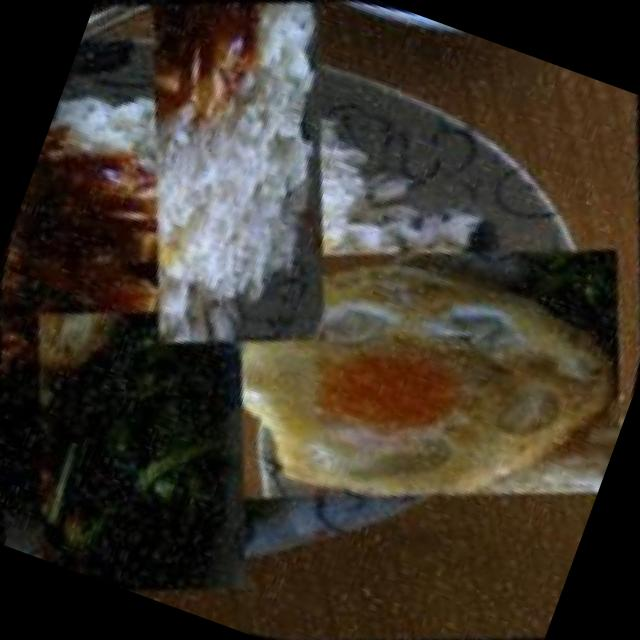fried_eggs: (124, 107, 640, 622)
rice: (19, 0, 459, 392)
water_spinach: (0, 240, 348, 633)
